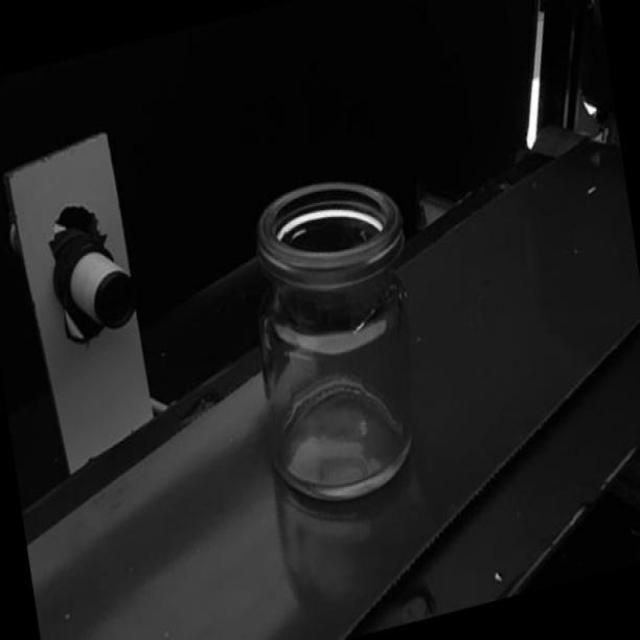defect: (349, 304, 383, 337)
glass: (235, 164, 438, 520)
